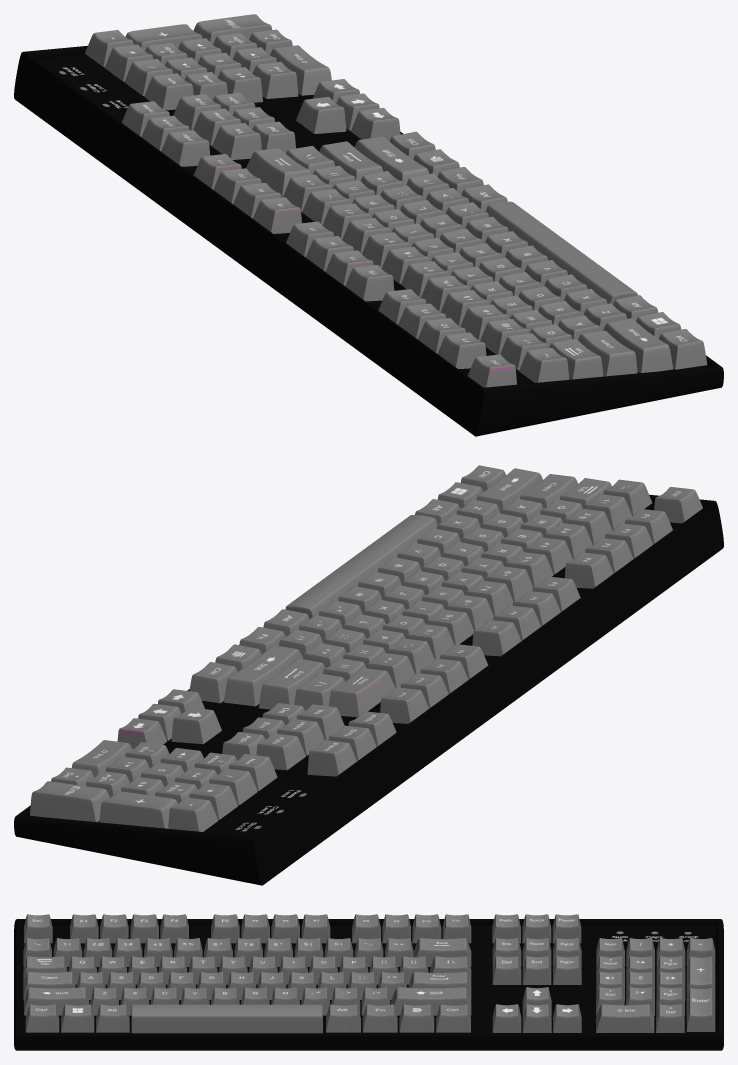
The model's file is full_size_keyboard_allgrey.glb.
The picture shows the model from 3 angles, top to bottom: view 1: azimuth 30°, elevation 25°; view 2: azimuth 150°, elevation 25°; view 3: azimuth 270°, elevation 25°; orthographic projection. The views are drawn at different scales.
Visible parts, largest first — view 1: zxcv; view 2: zxcv; view 3: zxcv.
Boxes of the visible parts, bbox=[...] form: zxcv: bbox=[14, 14, 723, 436]; zxcv: bbox=[14, 465, 723, 885]; zxcv: bbox=[14, 914, 723, 1050].
Size of the model in its own units: 5.55 by 1.5 by 18.04.
2 materials, 1 textured.
